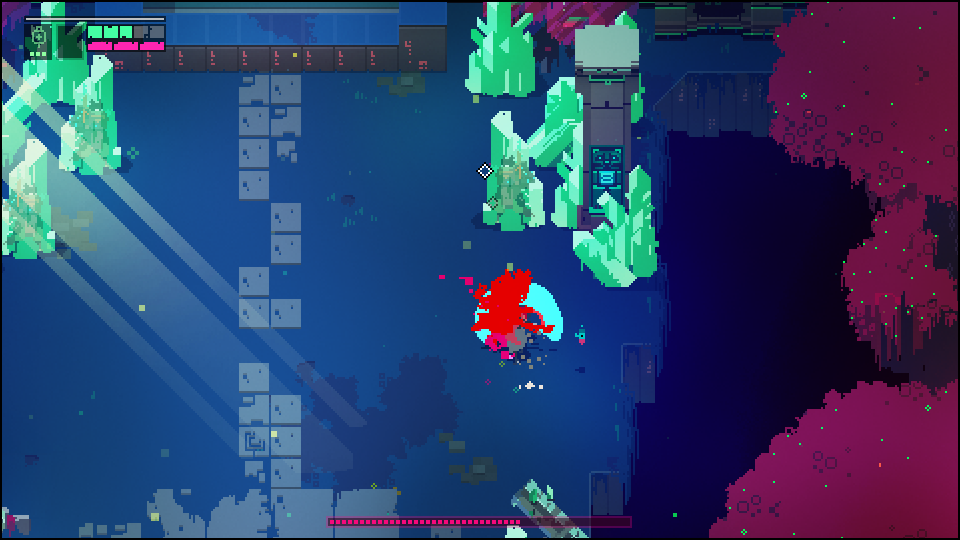hanged_man: (473, 265, 537, 356)
